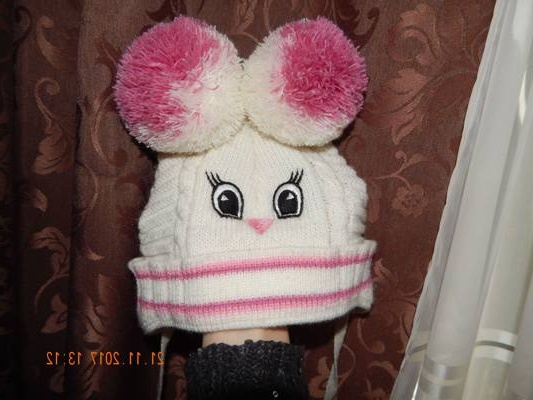Hat: (101, 3, 420, 349)
